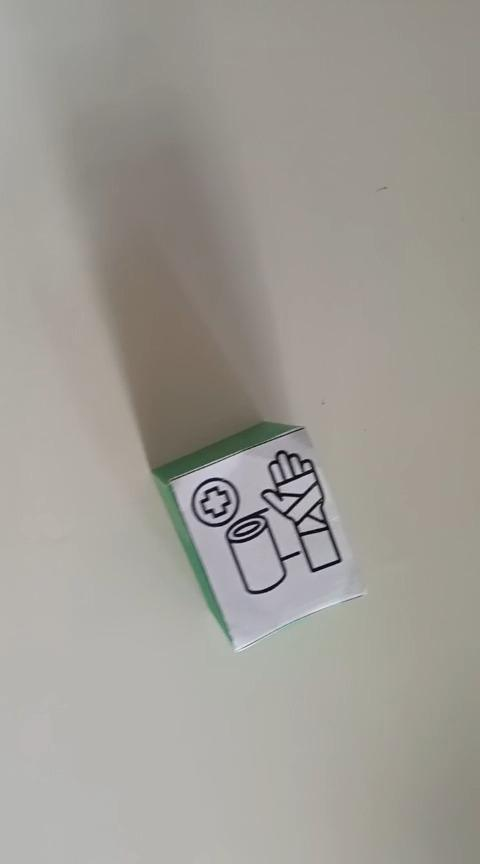Bandages: (150, 419, 367, 652)
